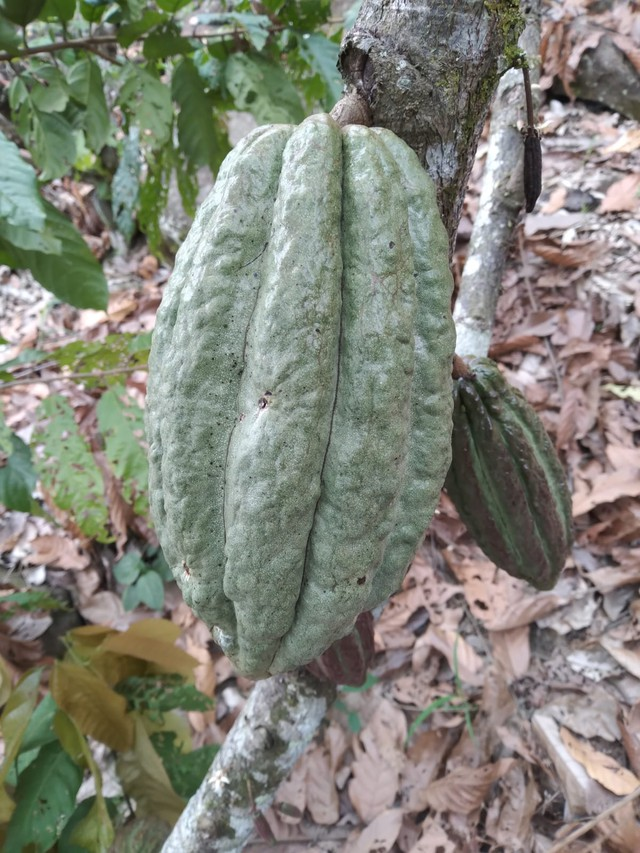Health: (139, 111, 464, 695)
